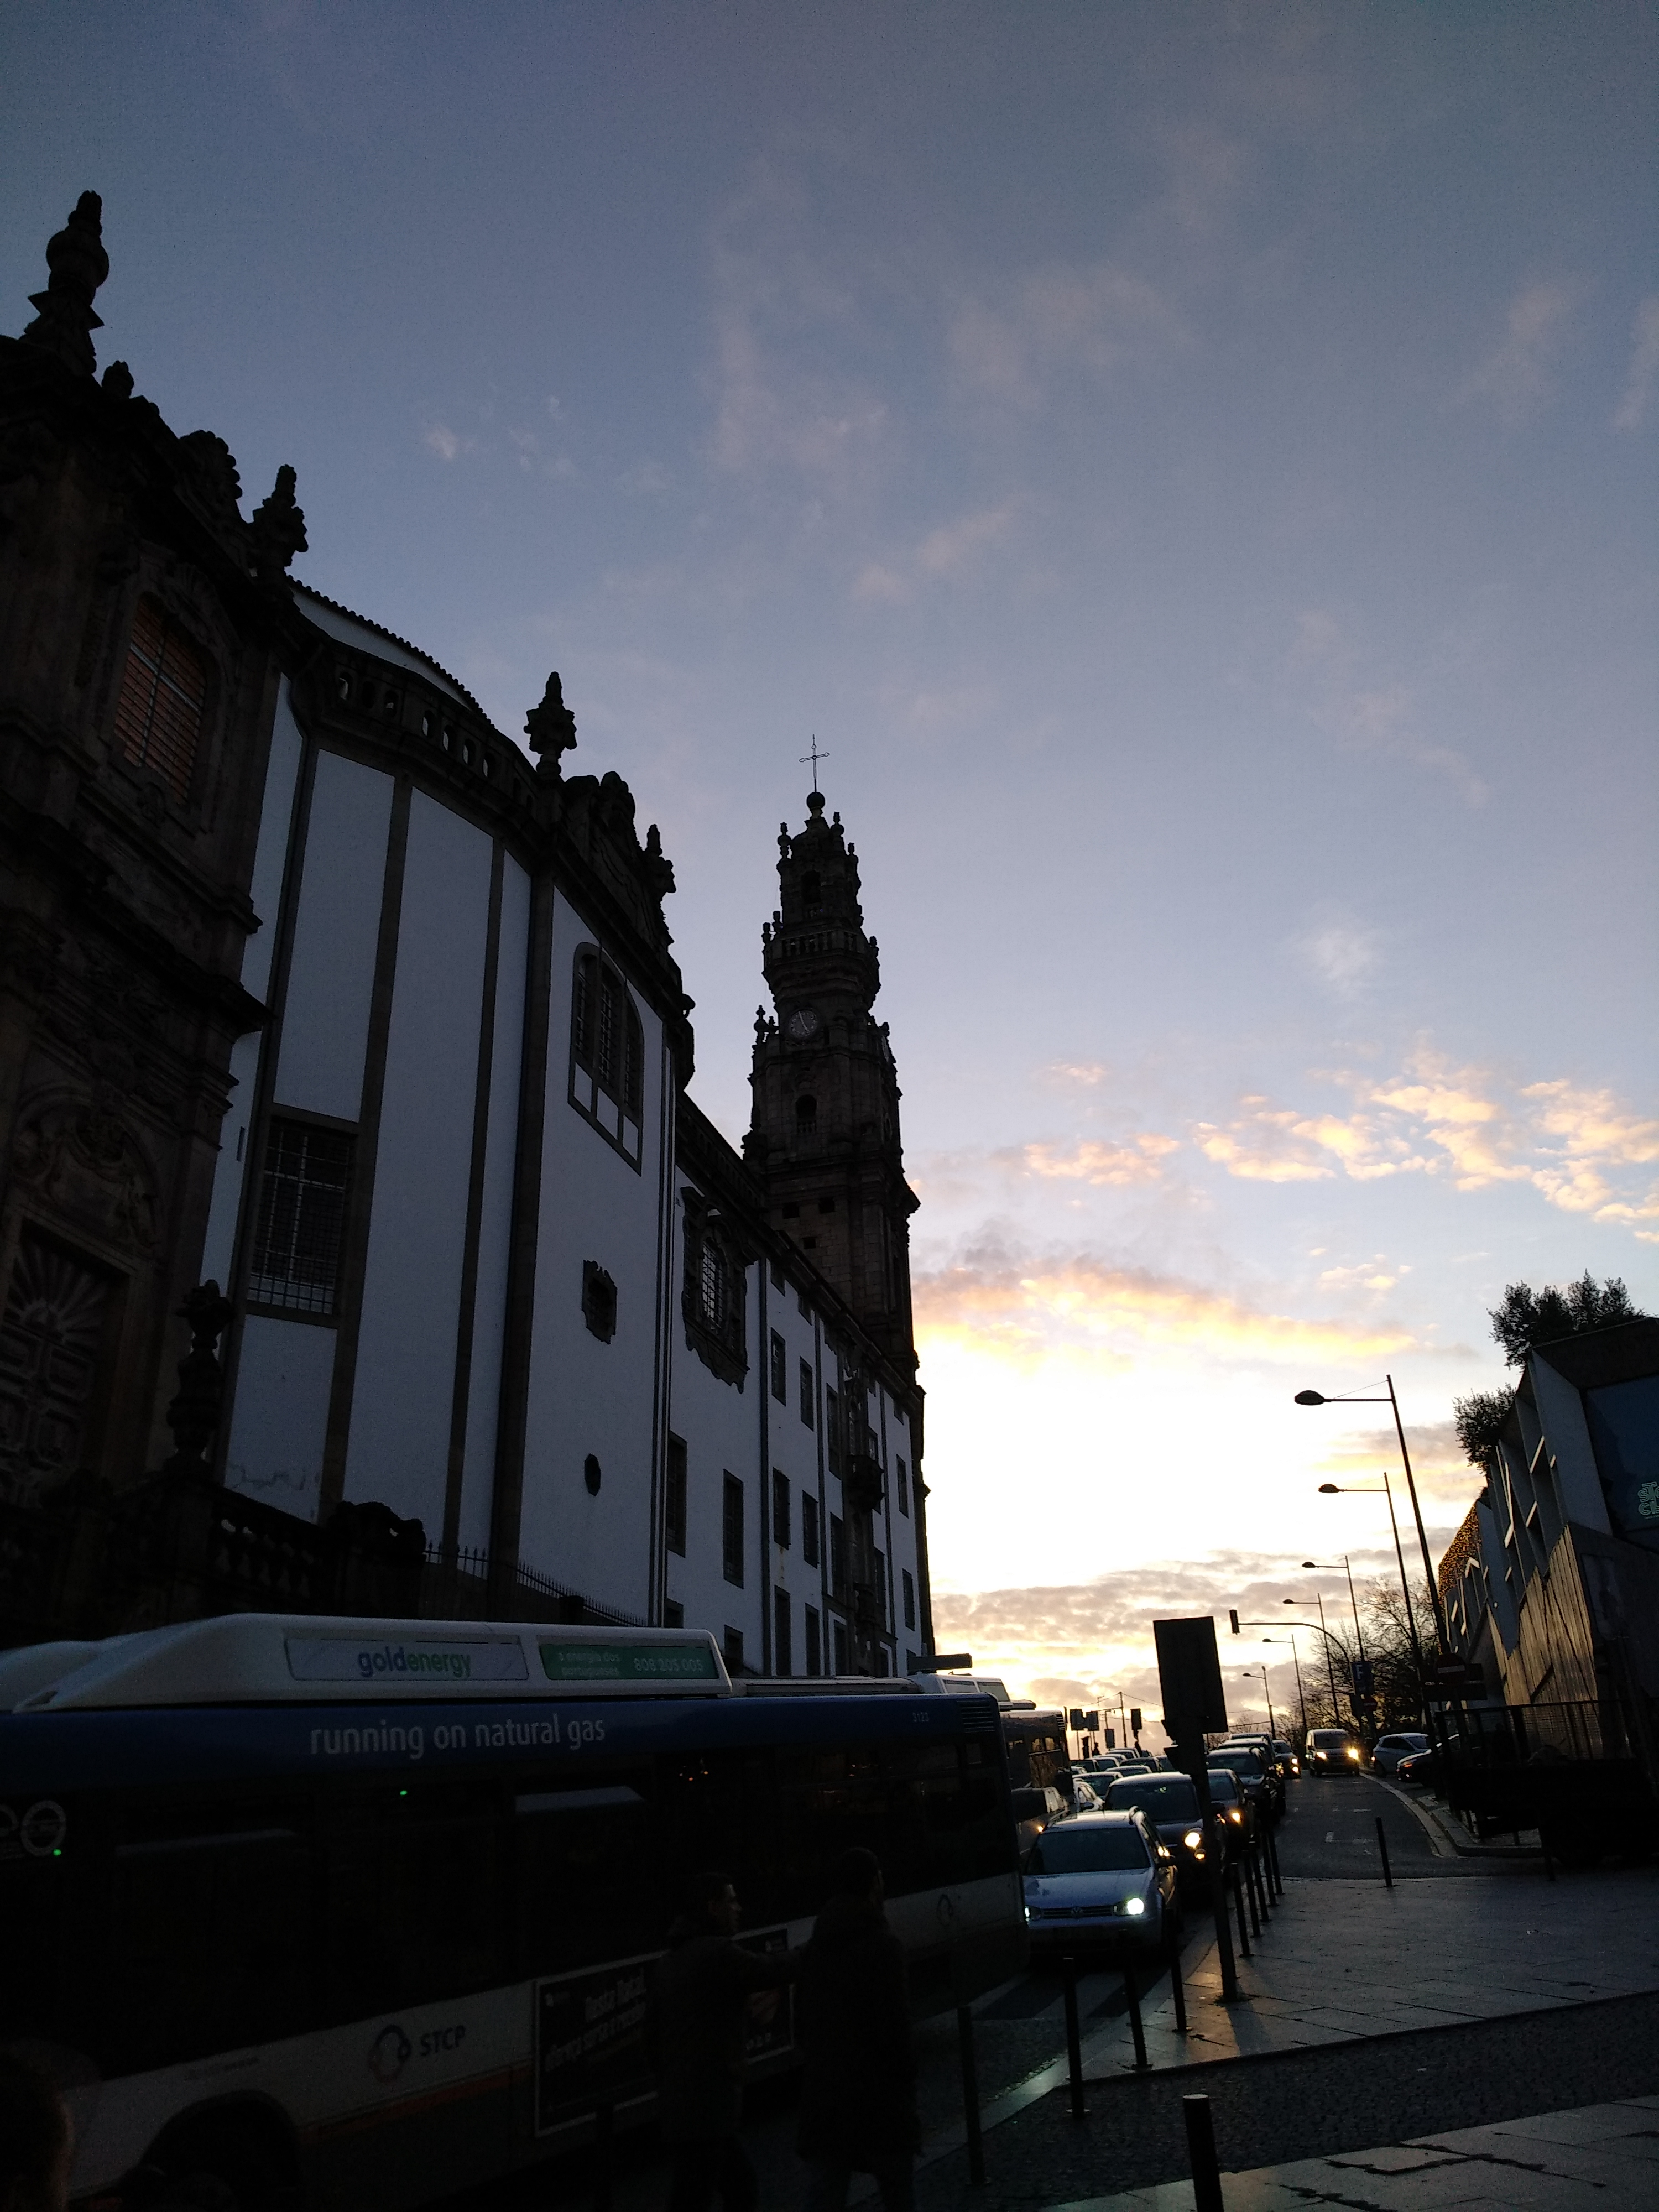clerigos: (213, 641, 713, 747)
